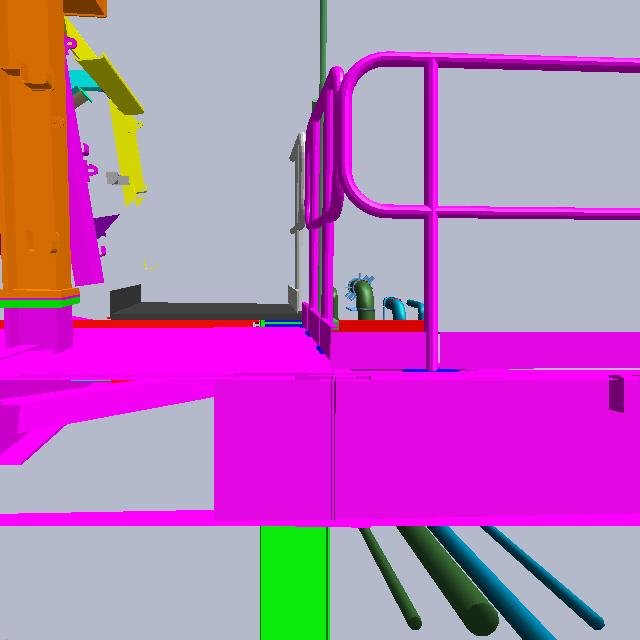Poste: (317, 5, 325, 346)
